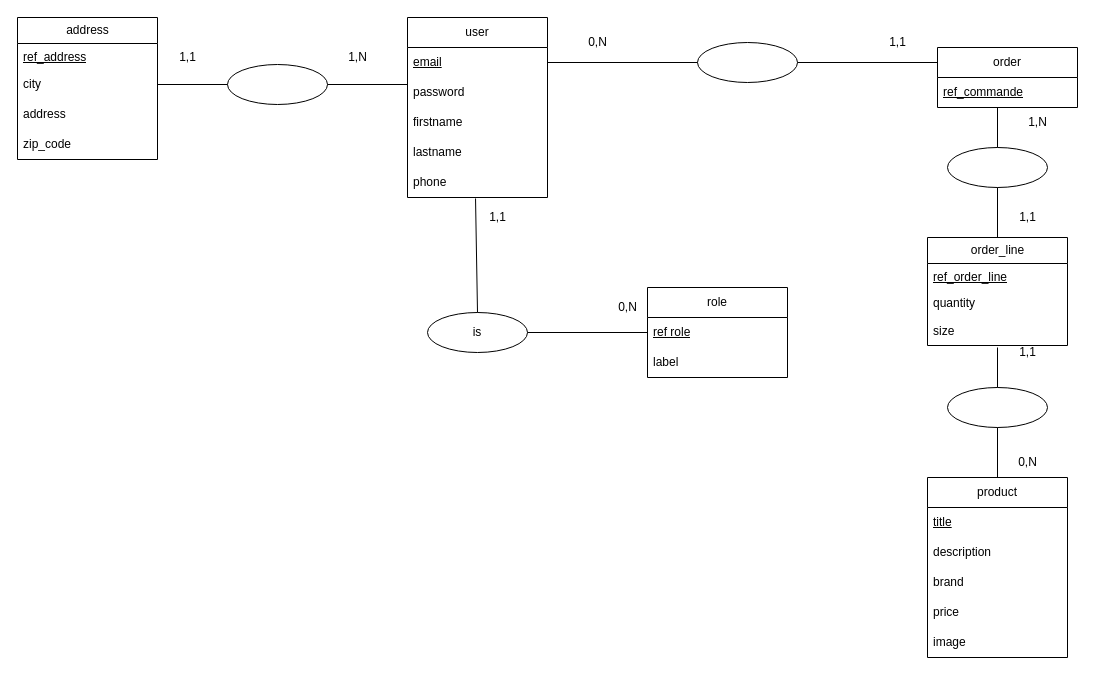
Some shapes in this 1095 by 675 pixel diagram are drawn without their labels. The centre of each missing label's shape, as x and y in pixels:
"contains" belongs at point 997,407.
"have" belongs at point 277,84.
"include" belongs at point 997,167.
"receive" belongs at point 747,62.
